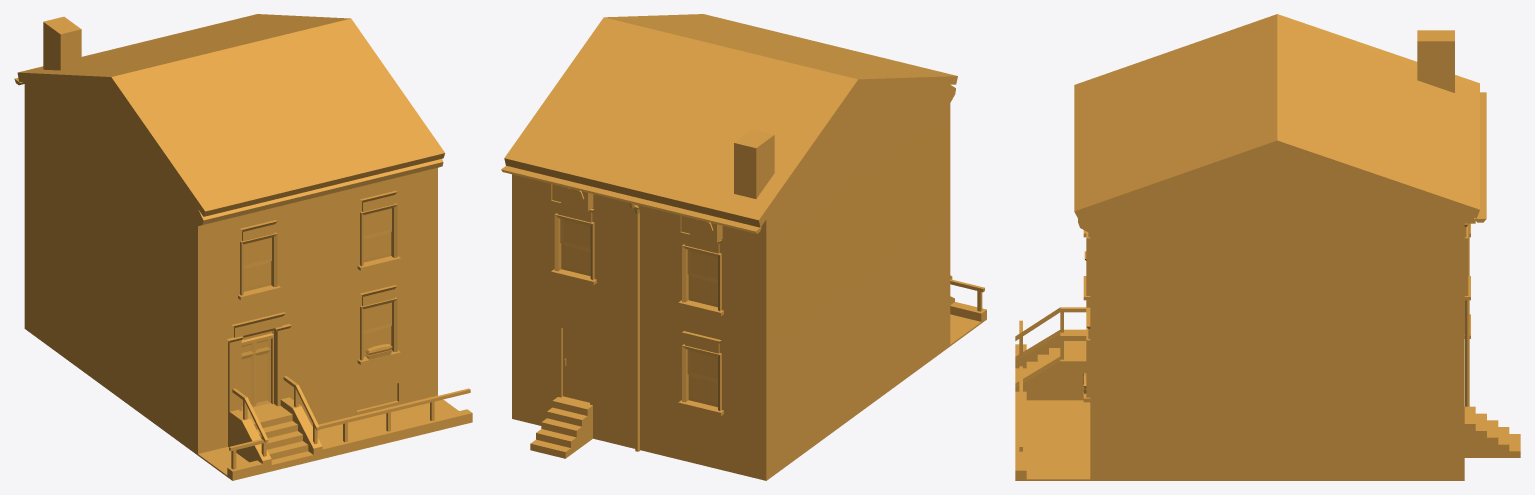
The model's file is building-house-block-big.fbx.
3 views of the same model, side by side, from view 1: azimuth 30°, elevation 25°; view 2: azimuth 150°, elevation 25°; view 3: azimuth 270°, elevation 25° (orthographic). The views are drawn at different scales.
Visible parts, largest first — view 1: building-house-block-big; view 2: building-house-block-big; view 3: building-house-block-big.
Boxes of the visible parts, <box> form: building-house-block-big: <box>14,14,472,480</box>; building-house-block-big: <box>501,14,986,480</box>; building-house-block-big: <box>1015,14,1520,480</box>.
Size of the model in its own units: 8 by 10.04 by 13.5.
